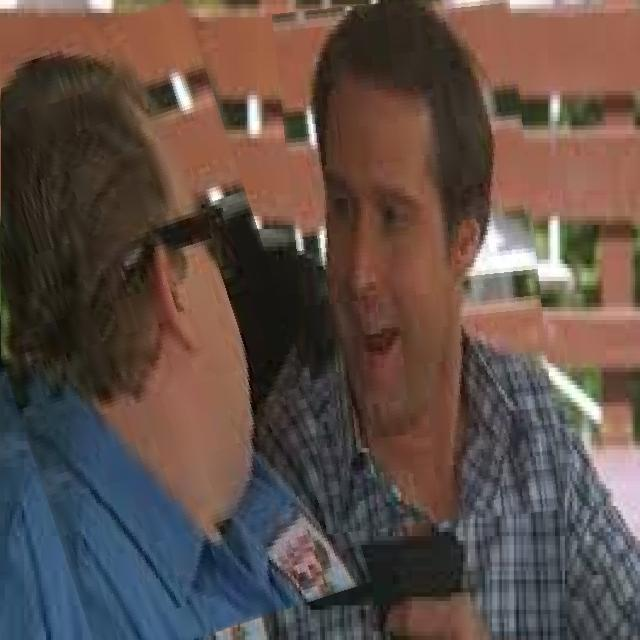Gun_Holder: (293, 496, 486, 640)
Person: (236, 5, 622, 640), (5, 55, 353, 634)
